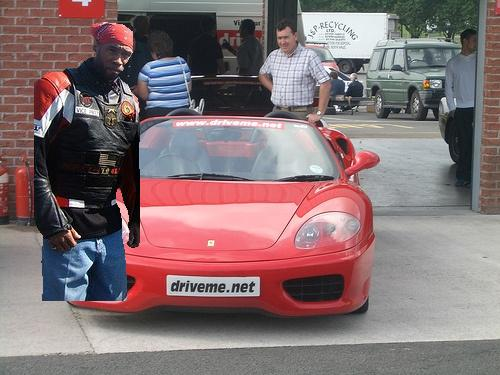tampered: (35, 23, 140, 301)
